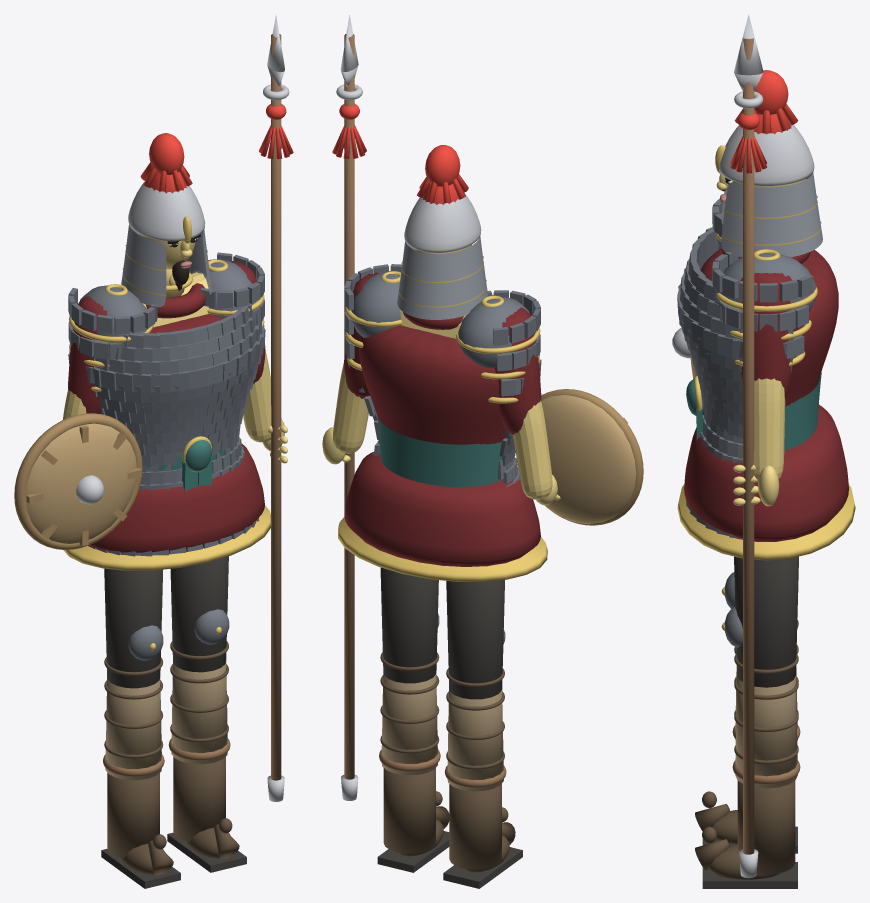
File: soldier_v3_opt.glb
The picture shows the model from 3 angles, left to right: view 1: azimuth 30°, elevation 25°; view 2: azimuth 150°, elevation 25°; view 3: azimuth 270°, elevation 25°; orthographic projection. The views are drawn at different scales.
Visible parts, largest first — view 1: lamellar, boot_1, trouser_1, coat, shield, wrap_1, spear_shaft, knee_1, shield_rim, dunxiang_lace, dunxiang, helm_bowl (+7 smaller); view 2: coat, trouser_1, boot_1, shield, wrap_1, spear_shaft, dunxiang, S_body, baodu, lamellar, knee_1, dunxiang_lace (+6 smaller); view 3: coat, lamellar, spear_shaft, boot_1, trouser_1, dunxiang, wrap_1, dunxiang_lace, helm_bowl, plume_puff, S_body, knee_1 (+5 smaller).
Boxes of the visible parts, x1=… form: lamellar: x1=68, y1=252, x2=265, y2=556; boot_1: x1=104, y1=641, x2=239, y2=875; trouser_1: x1=101, y1=556, x2=246, y2=888; coat: x1=68, y1=261, x2=265, y2=554; shield: x1=25, y1=423, x2=136, y2=543; wrap_1: x1=105, y1=660, x2=227, y2=780; spear_shaft: x1=103, y1=34, x2=281, y2=780; knee_1: x1=79, y1=259, x2=256, y2=660; shield_rim: x1=14, y1=413, x2=142, y2=549; dunxiang_lace: x1=63, y1=244, x2=271, y2=570; dunxiang: x1=121, y1=224, x2=211, y2=307; helm_bowl: x1=128, y1=183, x2=205, y2=241; coat: x1=344, y1=272, x2=541, y2=566; trouser_1: x1=377, y1=567, x2=522, y2=888; boot_1: x1=380, y1=652, x2=515, y2=872; shield: x1=541, y1=395, x2=636, y2=523; wrap_1: x1=381, y1=672, x2=503, y2=791; spear_shaft: x1=344, y1=34, x2=506, y2=787; dunxiang: x1=397, y1=236, x2=487, y2=319; S_body: x1=333, y1=244, x2=552, y2=499; baodu: x1=377, y1=418, x2=502, y2=487; lamellar: x1=344, y1=264, x2=541, y2=487; knee_1: x1=351, y1=271, x2=529, y2=644; dunxiang_lace: x1=338, y1=256, x2=547, y2=581; coat: x1=684, y1=248, x2=848, y2=541; lamellar: x1=677, y1=198, x2=813, y2=539; spear_shaft: x1=732, y1=38, x2=800, y2=854; boot_1: x1=695, y1=619, x2=798, y2=879; trouser_1: x1=702, y1=556, x2=798, y2=888; dunxiang: x1=721, y1=172, x2=822, y2=256; wrap_1: x1=735, y1=665, x2=797, y2=788; dunxiang_lace: x1=677, y1=195, x2=855, y2=560; helm_bowl: x1=719, y1=124, x2=814, y2=185; plume_puff: x1=730, y1=70, x2=798, y2=173; S_body: x1=728, y1=178, x2=805, y2=482; knee_1: x1=716, y1=235, x2=816, y2=647.
Size of the model in its own units: 1.05 by 2.79 by 0.5142.
